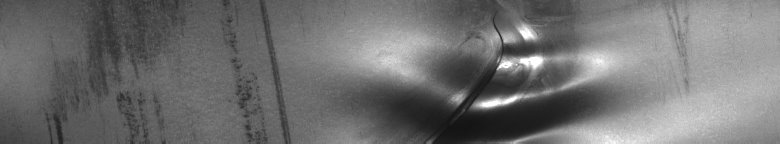ke: (450, 16, 585, 136)
